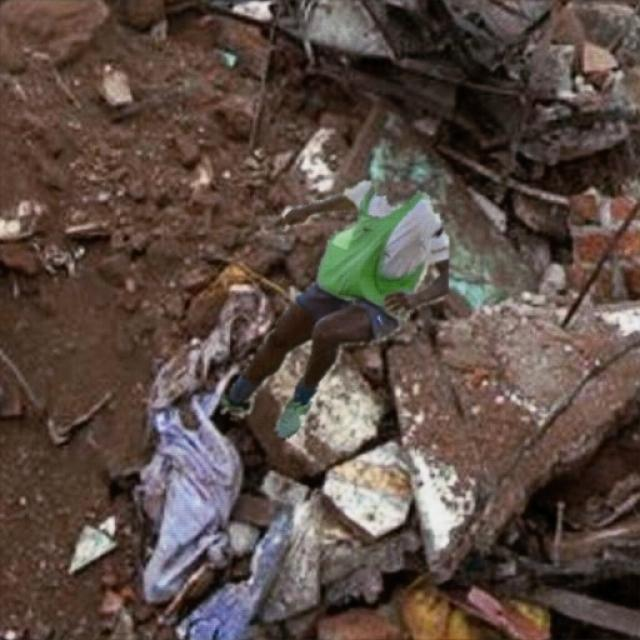Person in Rubble: (222, 180, 448, 439)
